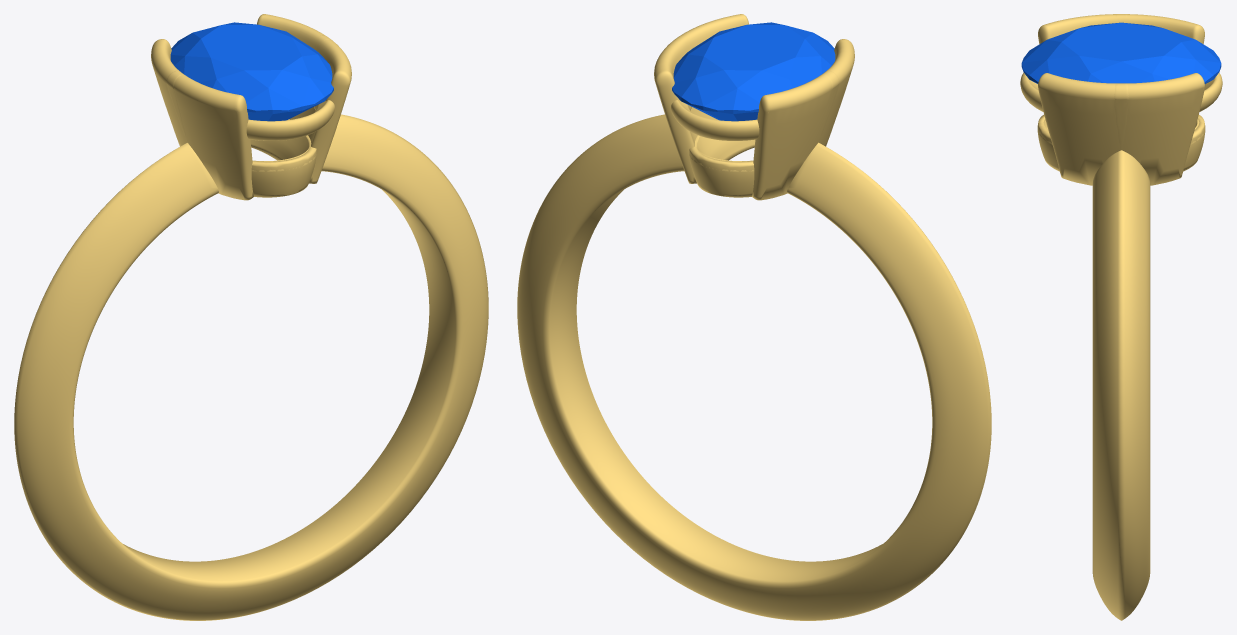
Rendered from bluesapphire-oval-yellowgold-halfmoonbezel-knifeedge-nosidestones.glb.
3 renders of one model, left to right at view 1: azimuth 30°, elevation 25°; view 2: azimuth 150°, elevation 25°; view 3: azimuth 270°, elevation 25°, orthographic. The views are drawn at different scales.
Visible parts, largest first — view 1: metal, stone; view 2: metal, stone; view 3: metal, stone.
Part boxes in pixels (box(x1,y1,x2,y2)): metal: box(14, 14, 488, 620); stone: box(170, 22, 333, 121); metal: box(517, 14, 991, 620); stone: box(672, 22, 835, 121); metal: box(1020, 14, 1222, 620); stone: box(1021, 22, 1221, 83).
Bounding box in the file's own units: 20.5 × 23.4 × 7.75.
